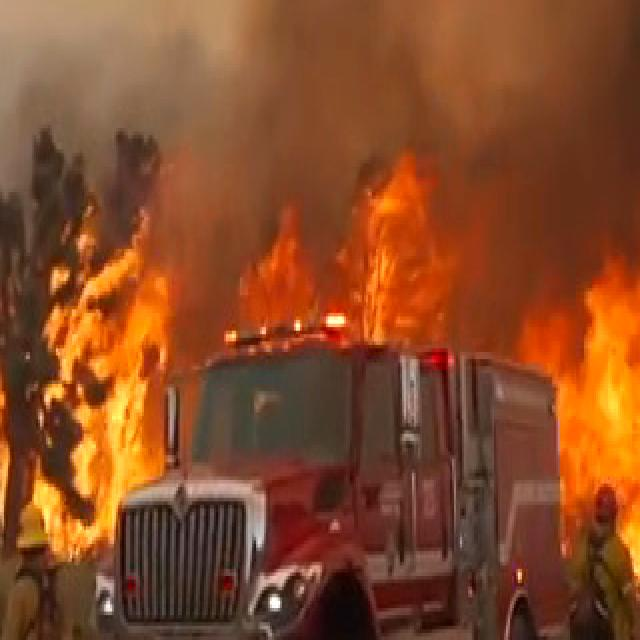fire: (0, 117, 222, 576), (237, 90, 471, 344), (520, 210, 640, 533)
